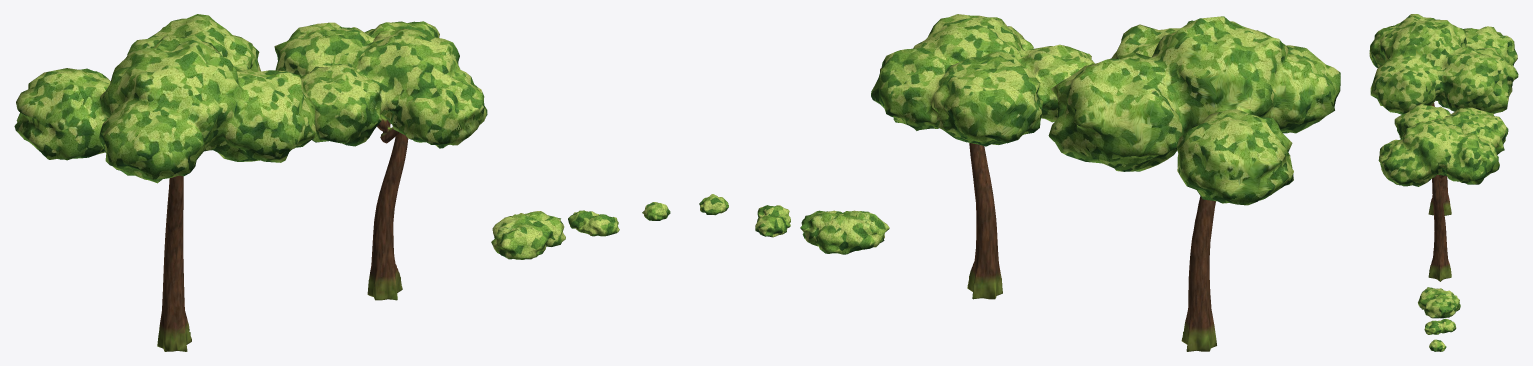
The model's file is forest_kit.glb.
The picture shows the model from 3 angles, left to right: view 1: azimuth 30°, elevation 25°; view 2: azimuth 150°, elevation 25°; view 3: azimuth 270°, elevation 25°; orthographic projection. The views are drawn at different scales.
Visible parts, largest first — view 1: SM_Bg_tree_a_canopy, SM_Bg_tree_b_canopy, SM_Bg_tree_b_bark, SM_Bg_tree_a_bark, SM_Bg_bush_a, SM_Bg_bush_b; view 2: SM_Bg_tree_a_canopy, SM_Bg_tree_b_canopy, SM_Bg_tree_a_bark, SM_Bg_tree_b_bark, SM_Bg_bush_a, SM_Bg_bush_b; view 3: SM_Bg_tree_a_canopy, SM_Bg_tree_b_canopy, SM_Bg_tree_b_bark, SM_Bg_bush_a, SM_Bg_bush_b, SM_Bg_tree_a_bark, SM_Bg_bush_c.
Part boxes in pixels (box(x1,y1,x2,y2)): SM_Bg_tree_a_canopy: box(14, 14, 316, 183); SM_Bg_tree_b_canopy: box(274, 21, 487, 148); SM_Bg_tree_b_bark: box(367, 115, 408, 300); SM_Bg_tree_a_bark: box(157, 175, 191, 351); SM_Bg_bush_a: box(491, 211, 565, 259); SM_Bg_bush_b: box(568, 210, 619, 236); SM_Bg_tree_a_canopy: box(1048, 16, 1340, 205); SM_Bg_tree_b_canopy: box(871, 14, 1094, 146); SM_Bg_tree_a_bark: box(1181, 128, 1216, 351); SM_Bg_tree_b_bark: box(967, 143, 1002, 299); SM_Bg_bush_a: box(800, 210, 889, 254); SM_Bg_bush_b: box(755, 205, 790, 237); SM_Bg_tree_a_canopy: box(1369, 14, 1518, 114); SM_Bg_tree_b_canopy: box(1378, 103, 1508, 186); SM_Bg_tree_b_bark: box(1428, 174, 1451, 281); SM_Bg_bush_a: box(1418, 287, 1460, 318); SM_Bg_bush_b: box(1424, 318, 1456, 334); SM_Bg_tree_a_bark: box(1428, 103, 1451, 215); SM_Bg_bush_c: box(1429, 339, 1446, 351).
Size of the model in its own units: 26.07 by 12.7 by 8.95.
7 materials, 7 textured.
